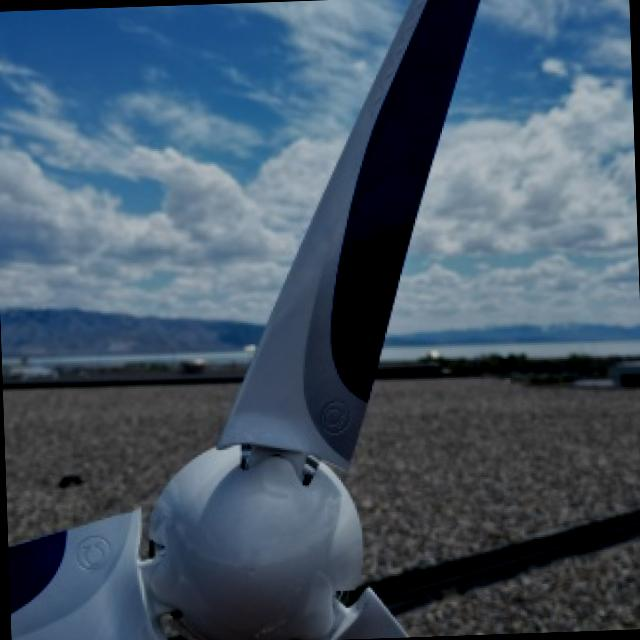healthy: (10, 0, 481, 640), (14, 512, 167, 640)
